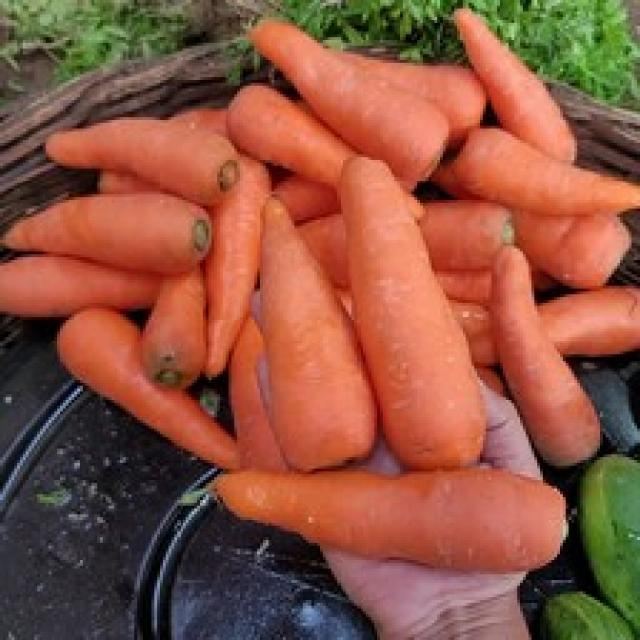Fresh_Carrot: (316, 148, 483, 476), (218, 454, 561, 579), (254, 186, 373, 496), (254, 5, 457, 168), (39, 128, 250, 212)
